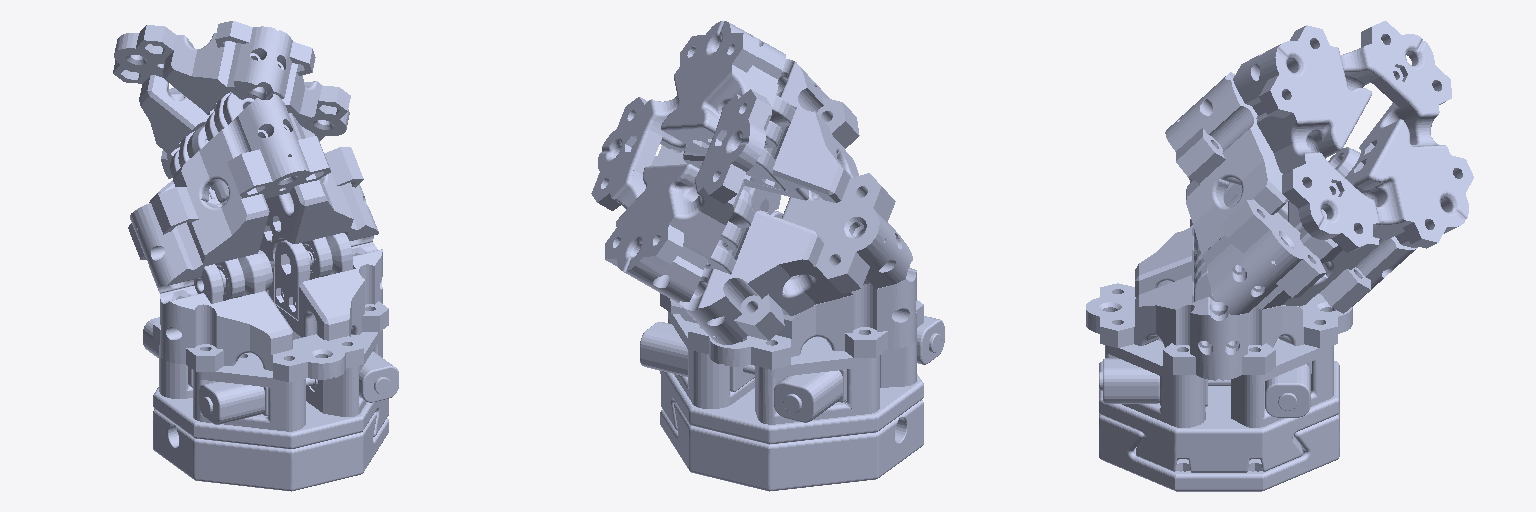
robot.urdf — gummi:
<?xml version="1.0" ?>
<robot name="gummi">
	<link name="base_link"/>
	<joint name="set_worldaxis" type="fixed">
		<origin rpy="1.570796326795 0 0" xyz="0.0 0.0 0.0"/>
		<parent link="base_link"/>
		<child link="base"/>
		<axis xyz="0 0 0"/>
		<limit effort="0" lower="-1" upper="1" velocity="0"/>
	</joint>
	<link name="base">
		<inertial>
			<origin rpy="0.0 0.0 0.0" xyz="0.0 0.0 0.0"/>
			<mass value="0"/>
			<inertia ixx="0" ixy="0" ixz="0" iyy="0" iyz="0" izz="0"/>
		</inertial>
		<visual>
			<origin rpy="0.0 0.0 0.0" xyz="0.0 0.0 0.0"/>
			<geometry>
				<mesh filename="package://segment_v_2_3b/meshes/base.stl"/>
			</geometry>
			<material name="">
				<color rgba="0.792156862745098 0.819607843137255 0.933333333333333 1"/>
			</material>
		</visual>
		<collision>
			<origin rpy="0.0 0.0 0.0" xyz="0.0 0.0 0.0"/>
			<geometry>
				<mesh filename="package://segment_v_2_3b/meshes/base.stl"/>
			</geometry>
		</collision>
	</link>
	<link name="link1">
		<inertial>
			<origin rpy="0.0 0.0 0.0" xyz="0.0 0.0 0.0"/>
			<mass value="0"/>
			<inertia ixx="0" ixy="0" ixz="0" iyy="0" iyz="0" izz="0"/>
		</inertial>
		<visual>
			<origin rpy="0.0 0.0 0.0" xyz="0.0 0.0 0.0"/>
			<geometry>
				<mesh filename="package://segment_v_2_3b/meshes/link1.stl"/>
			</geometry>
			<material name="">
				<color rgba="0.792156862745098 0.819607843137255 0.933333333333333 1"/>
			</material>
		</visual>
		<collision>
			<origin rpy="0.0 0.0 0.0" xyz="0.0 0.0 0.0"/>
			<geometry>
				<mesh filename="package://segment_v_2_3b/meshes/link1.stl"/>
			</geometry>
		</collision>
	</link>
	<link name="link2">
		<inertial>
			<origin rpy="0.0 0.0 0.0" xyz="0.0 0.0 0.0"/>
			<mass value="0"/>
			<inertia ixx="0" ixy="0" ixz="0" iyy="0" iyz="0" izz="0"/>
		</inertial>
		<visual>
			<origin rpy="0.0 0.0 0.0" xyz="0.0 0.0 0.0"/>
			<geometry>
				<mesh filename="package://segment_v_2_3b/meshes/link2.stl"/>
			</geometry>
			<material name="">
				<color rgba="0.792156862745098 0.819607843137255 0.933333333333333 1"/>
			</material>
		</visual>
		<collision>
			<origin rpy="0.0 0.0 0.0" xyz="0.0 0.0 0.0"/>
			<geometry>
				<mesh filename="package://segment_v_2_3b/meshes/link2.stl"/>
			</geometry>
		</collision>
	</link>
	<joint name="joint0" type="revolute">
		<origin rpy="0.0 0.0 0.0" xyz="0.0 0.0 0.0"/>
		<parent link="base"/>
		<child link="link1"/>
		<axis xyz="0.9999999999999998 -6.118080227070511e-16 -1.836970198720901e-16"/>
		<limit effort="0" lower="-0.7853981633974483" upper="0.7853981633974483" velocity="0"/>
	</joint>
	<joint name="joint1" type="revolute">
		<origin rpy="0.0 0.0 0.0" xyz="0.0 0.0 0.0"/>
		<parent link="link1"/>
		<child link="link2"/>
		<axis xyz="2.972152420865314e-17 0.7071067811865976 0.7071067811866121"/>
		<limit effort="0" lower="-0.7853981633974483" upper="0.7853981633974483" velocity="0"/>
	</joint>
</robot>

--- What the picture shows (computed from the rendered views, not written in the file) ---
The picture shows the robot from 3 angles, left to right: view 1: azimuth 30°, elevation 25°; view 2: azimuth 150°, elevation 25°; view 3: azimuth 270°, elevation 25°; orthographic projection.
Model gummi with 4 links and 3 joints (2 revolute, 1 fixed), rooted at base_link, posed all joints at 0.
Visible links, largest first — view 1: base, link1, link2; view 2: base, link1, link2; view 3: base, link2, link1.
Boxes of the visible links, bbox=[...] form: base: bbox=[143, 233, 398, 491]; link1: bbox=[128, 92, 378, 300]; link2: bbox=[113, 21, 350, 178]; base: bbox=[640, 211, 944, 491]; link1: bbox=[651, 59, 912, 344]; link2: bbox=[591, 21, 785, 302]; base: bbox=[1086, 219, 1352, 491]; link2: bbox=[1233, 21, 1473, 252]; link1: bbox=[1165, 72, 1416, 314].
Bounding box of the posed robot: 0.0752 × 0.1019 × 0.1209 m (x, y, z).
3 mesh visuals loaded from 3 distinct referenced files (3 binary STL).